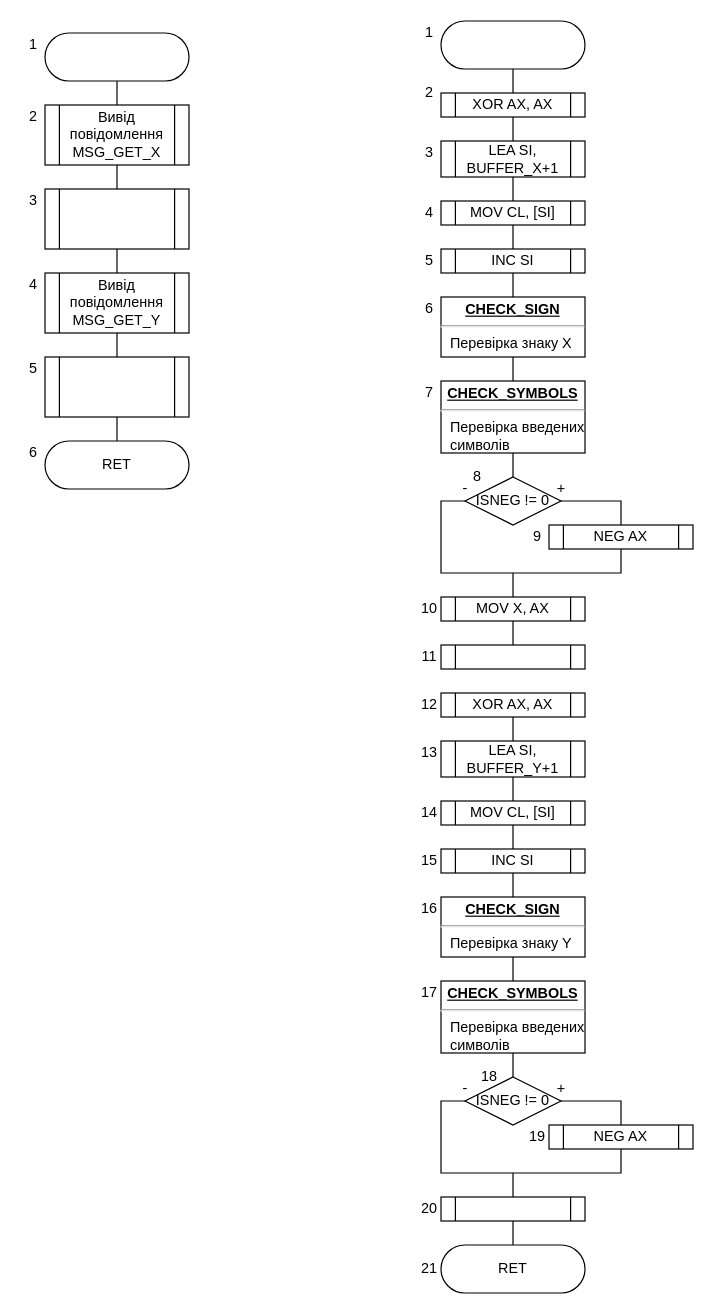
Some shapes in this 714 by 1314 pixel diagram are drawn without their labels. Each missing label, with the centre of its shape:
"CHECKNUMS" belongs at (x=512, y=44).
"INPUT" belongs at (x=116, y=56).
"MOV ISNEG, 0" belongs at (x=512, y=656).
"MOV Y, AX" belongs at (x=512, y=1208).
"Зчитування даних із буфера BUFFER_X" belongs at (x=116, y=218).
"Зчитування даних із буфера BUFFER_Y" belongs at (x=116, y=386).
